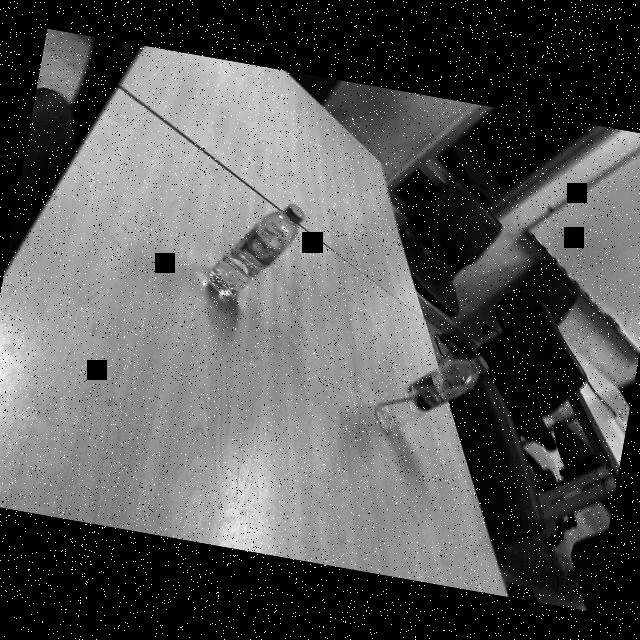plastic_bottle: (371, 336, 492, 454), (203, 190, 307, 310)
plastic_bottle_cap: (283, 202, 307, 226), (472, 353, 492, 378)
straw: (376, 352, 479, 422)
